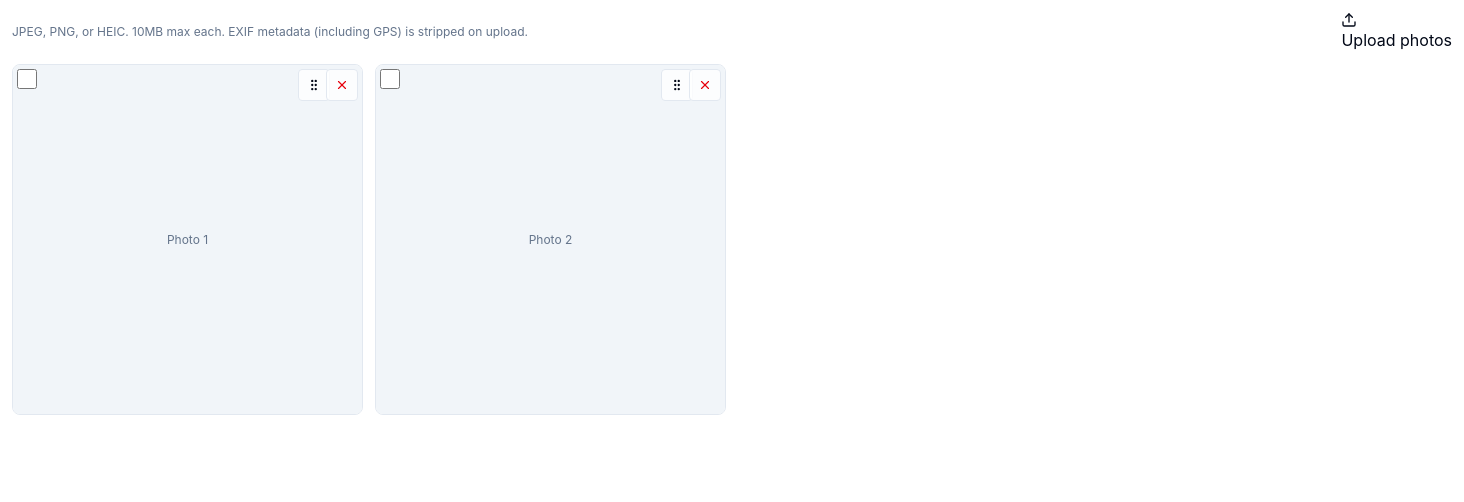
Test: ListingPhotoManager › clicking a checkbox shows the toolbar with the correct count
The width and height of the screenshot is (1464, 502).
Step 1. Click the 1st checkbox with test id "listing-photo-checkbox" → (27, 79), box [17, 69, 37, 89]
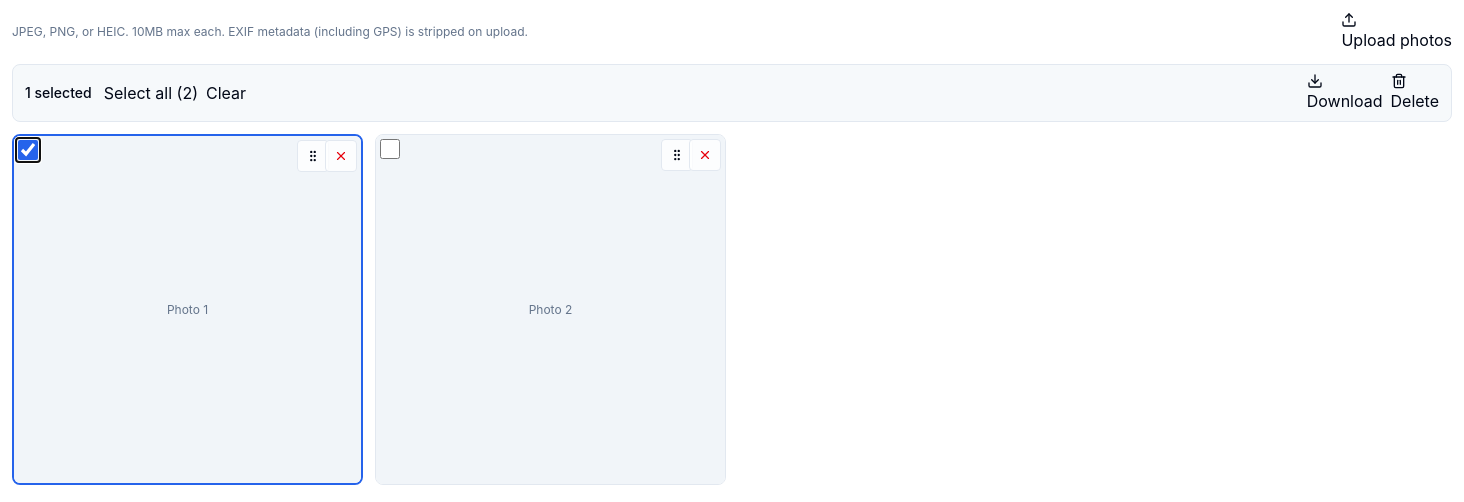
Check: the element with test id "photo-selection-toolbar" is shown, box [12, 64, 1452, 122]
Check: the text with test id "photo-selection-count" reads "1 selected", box [25, 83, 92, 103]
